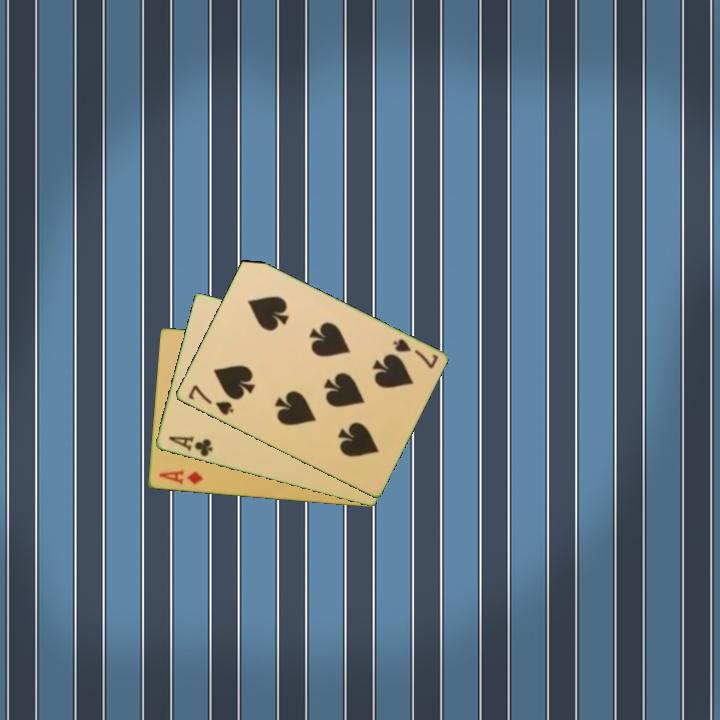7s: (184, 381, 236, 418), (389, 335, 441, 372)
Ac: (164, 432, 215, 460)
Ad: (155, 466, 205, 488)
